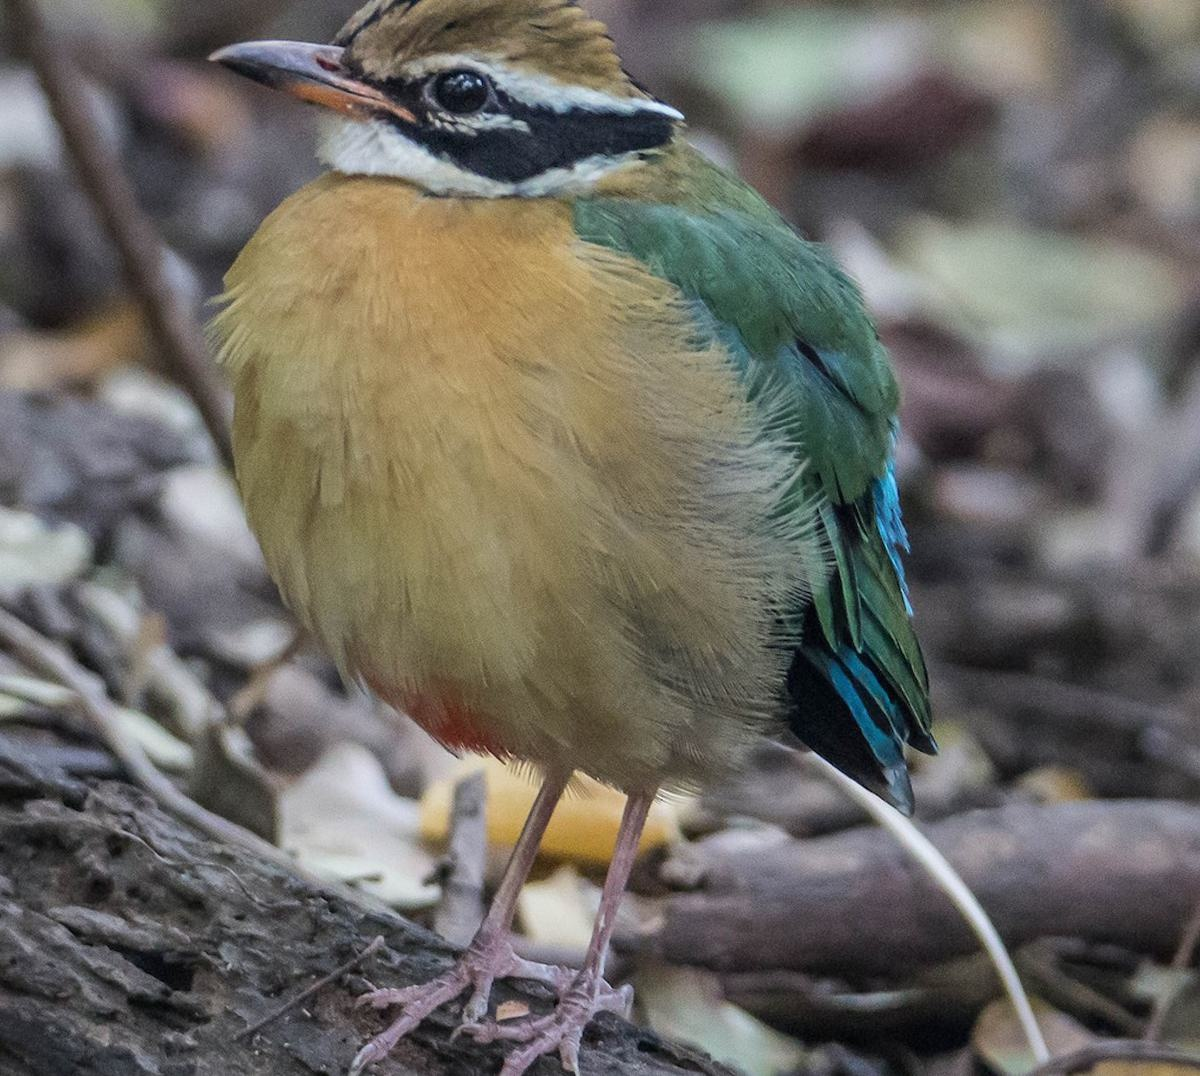pitta: (99, 2, 1013, 875)
